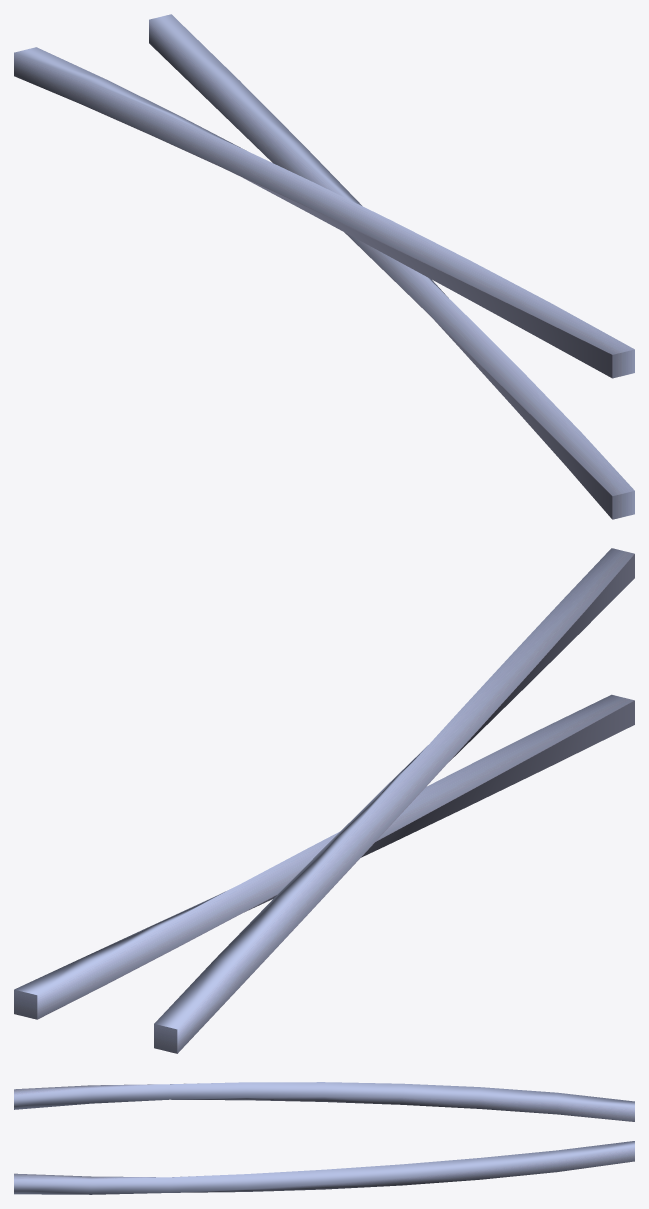
The model's file is kenney-train-railroad-rail-straight-skew-left-side.glb.
3 renders of one model, top to bottom at view 1: azimuth 30°, elevation 25°; view 2: azimuth 150°, elevation 25°; view 3: azimuth 270°, elevation 25°, orthographic. The views are drawn at different scales.
Visible parts, largest first — view 1: railroad-rail-straight-skew-left-side; view 2: railroad-rail-straight-skew-left-side; view 3: railroad-rail-straight-skew-left-side.
Boxes of the visible parts, box(x1,y1,x2,y2) form: railroad-rail-straight-skew-left-side: box(14, 14, 634, 519); railroad-rail-straight-skew-left-side: box(14, 548, 634, 1053); railroad-rail-straight-skew-left-side: box(14, 1082, 634, 1194).
Size of the model in its own units: 0.7134 by 0.7134 by 4.
Materials: 1 (1 with a texture image).
